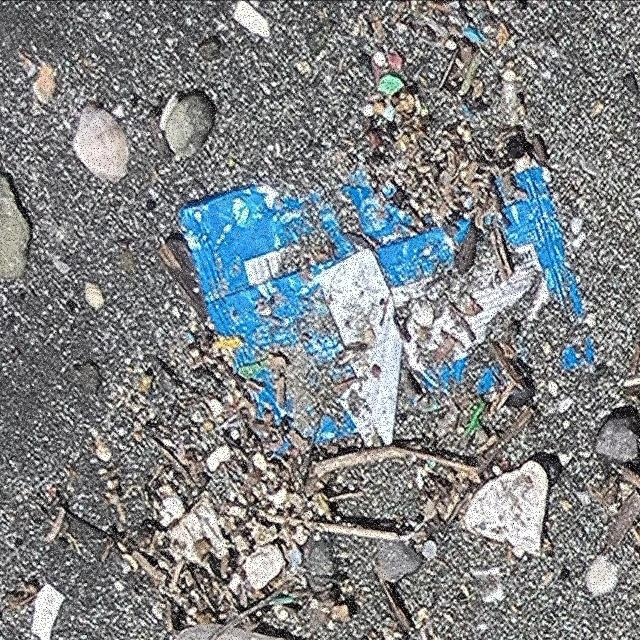plastic_waste: (176, 152, 599, 445)
